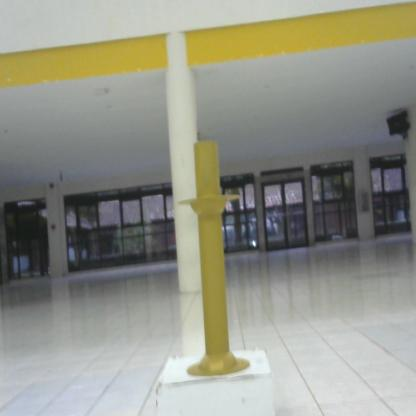pole: (176, 139, 256, 385)
